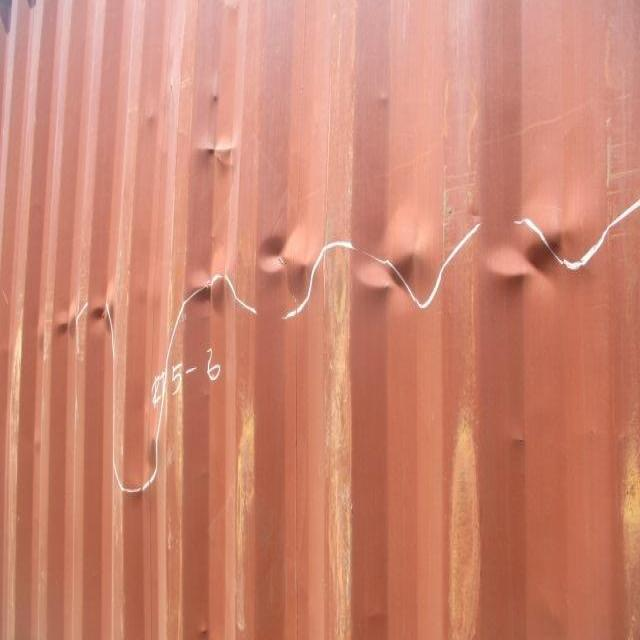dent: (178, 201, 623, 317), (49, 276, 134, 356), (117, 425, 171, 509), (181, 125, 245, 180)
